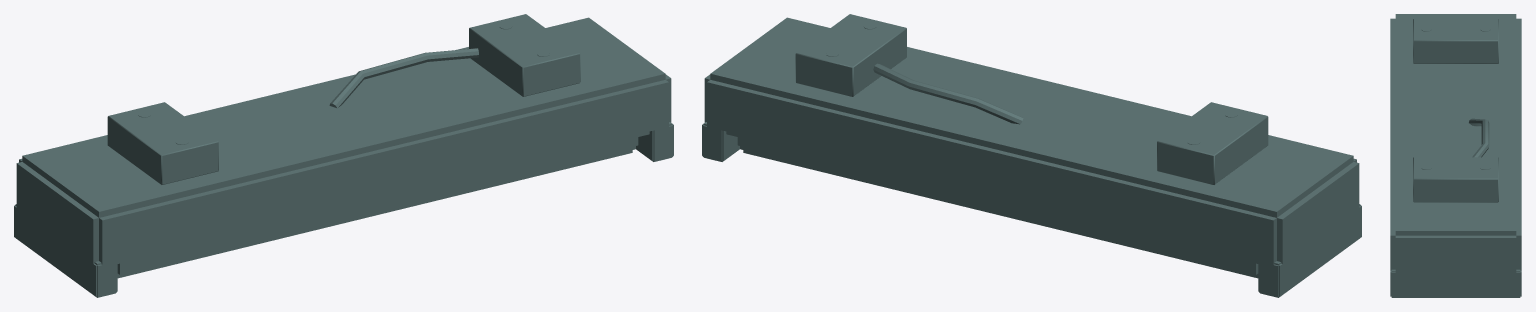
The model's file is OBJ-066_LuminariaTecnica.fbx.
3 views of the same model, side by side, from view 1: azimuth 30°, elevation 25°; view 2: azimuth 150°, elevation 25°; view 3: azimuth 270°, elevation 25° (orthographic). The views are drawn at different scales.
Parts seen in each view (by area): view 1: GEO-OBJ-066_LuminariaTecnica; view 2: GEO-OBJ-066_LuminariaTecnica; view 3: GEO-OBJ-066_LuminariaTecnica.
Part boxes in pixels (x1,y1,x2,y2): GEO-OBJ-066_LuminariaTecnica: (14,14,673,297); GEO-OBJ-066_LuminariaTecnica: (702,14,1361,297); GEO-OBJ-066_LuminariaTecnica: (1390,14,1521,297).
Size of the model in its own units: 0.8 by 0.1505 by 0.2.
